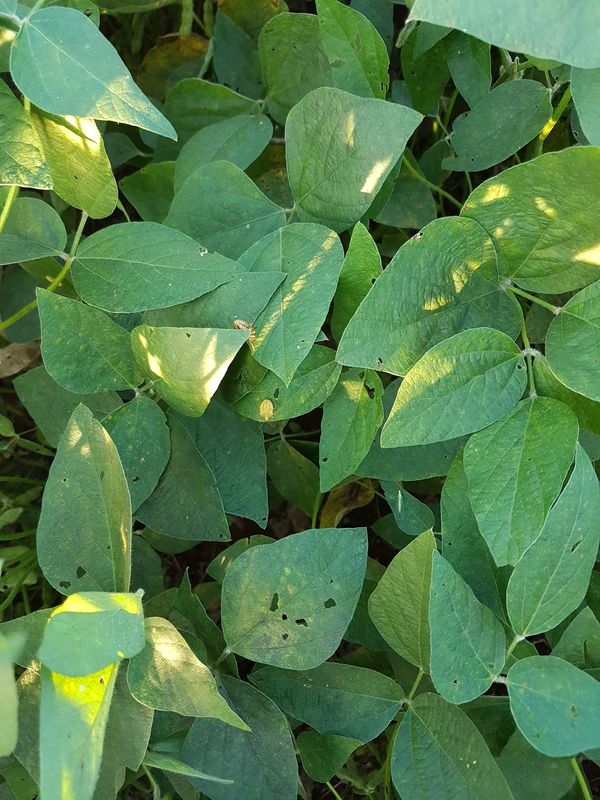Euschistus_heros_ninfa: (255, 396, 279, 425)
